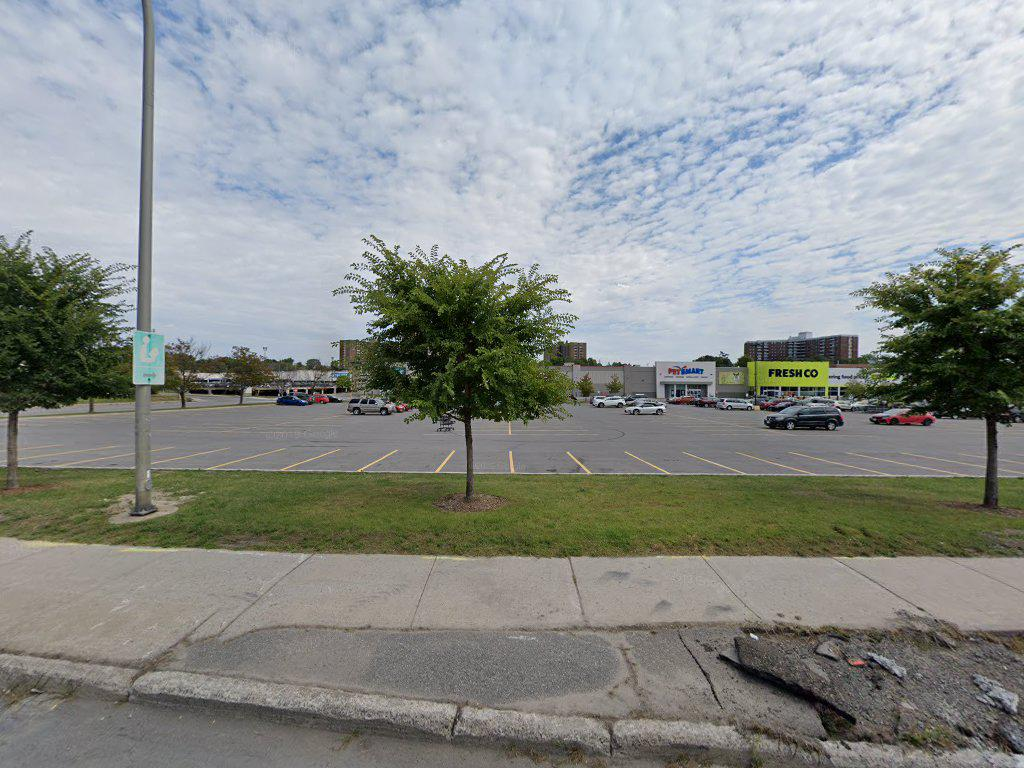trunk: (459, 412, 480, 504), (984, 406, 1000, 517)
